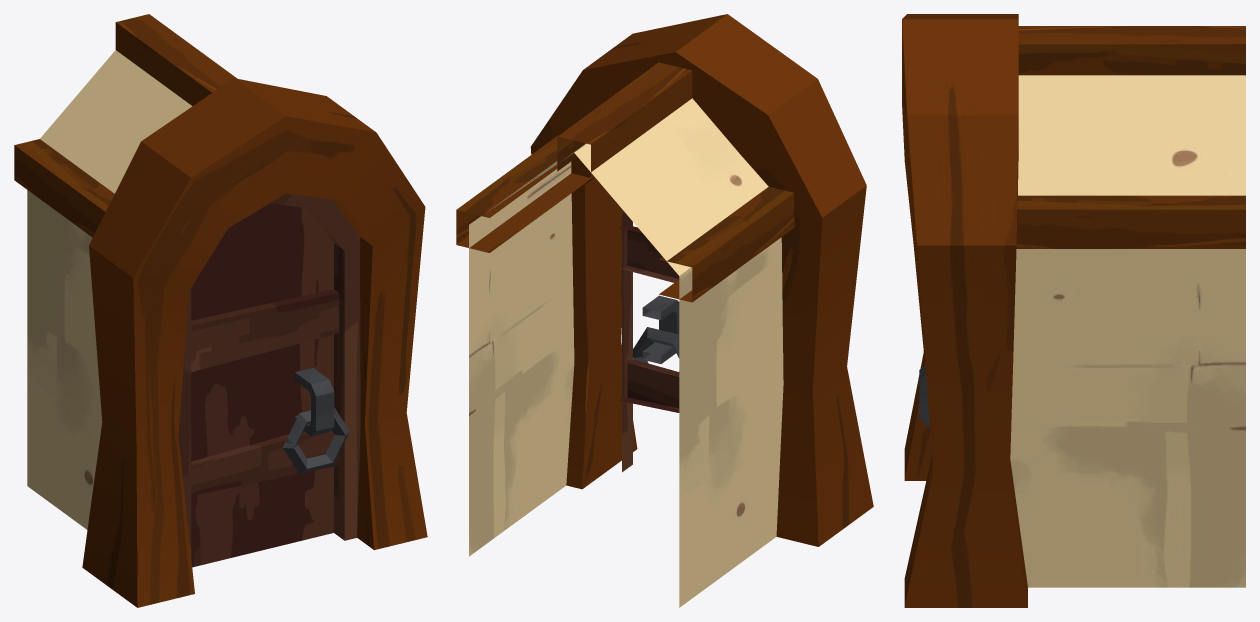
File: SM_BLD_door_v03_01.glb
The picture shows the model from 3 angles, left to right: view 1: azimuth 30°, elevation 25°; view 2: azimuth 150°, elevation 25°; view 3: azimuth 270°, elevation 25°; orthographic projection. The views are drawn at different scales.
Visible parts, largest first — view 1: SM_BLD_door_v03_01_EXPORT; view 2: SM_BLD_door_v03_01_EXPORT; view 3: SM_BLD_door_v03_01_EXPORT.
Boxes of the visible parts, left/top/right/bottom form: SM_BLD_door_v03_01_EXPORT: left=14, top=14, right=427, bottom=607; SM_BLD_door_v03_01_EXPORT: left=456, top=14, right=873, bottom=607; SM_BLD_door_v03_01_EXPORT: left=902, top=14, right=1245, bottom=607.
Size of the model in its own units: 1.95 by 2.9 by 1.77.
Materials: 4 (4 with a texture image).
